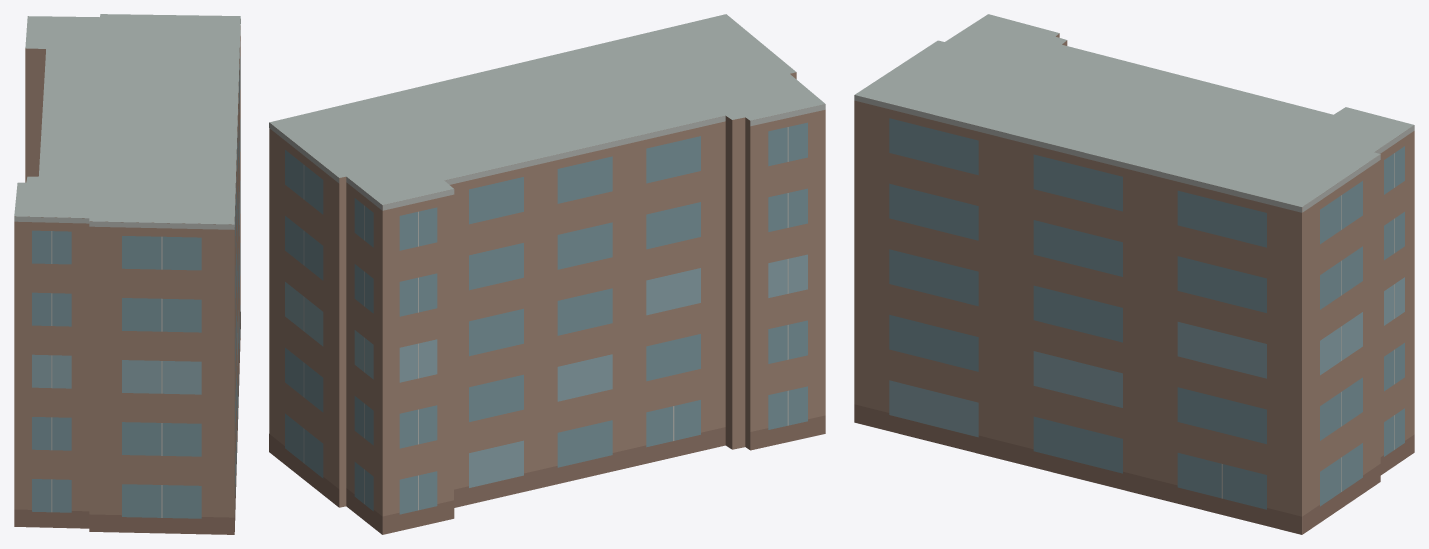
File: survey-upis-32963874.glb
The picture shows the model from 3 angles, left to right: view 1: azimuth 30°, elevation 25°; view 2: azimuth 150°, elevation 25°; view 3: azimuth 270°, elevation 25°; orthographic projection. The views are drawn at different scales.
Visible parts, largest first — view 1: survey-upis-32963874.tmp; view 2: survey-upis-32963874.tmp; view 3: survey-upis-32963874.tmp.
Boxes of the visible parts, x1,y1,x2,y2 form: survey-upis-32963874.tmp: [14, 14, 240, 534]; survey-upis-32963874.tmp: [269, 14, 825, 534]; survey-upis-32963874.tmp: [854, 14, 1414, 534].
Bounding box in the file's own units: 18.04 × 14.25 × 22.09.
